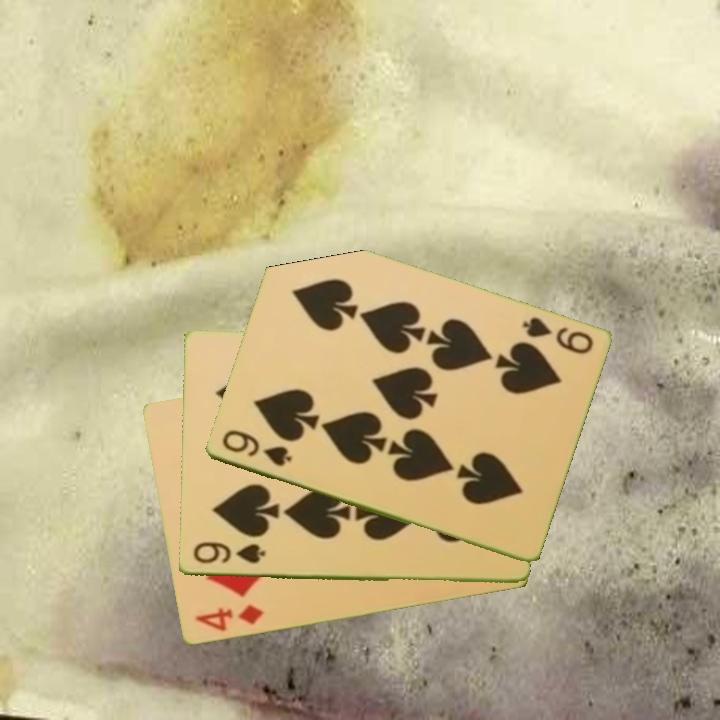4d: (191, 601, 267, 635)
9s: (518, 313, 596, 358), (218, 426, 294, 470), (189, 539, 268, 567)
